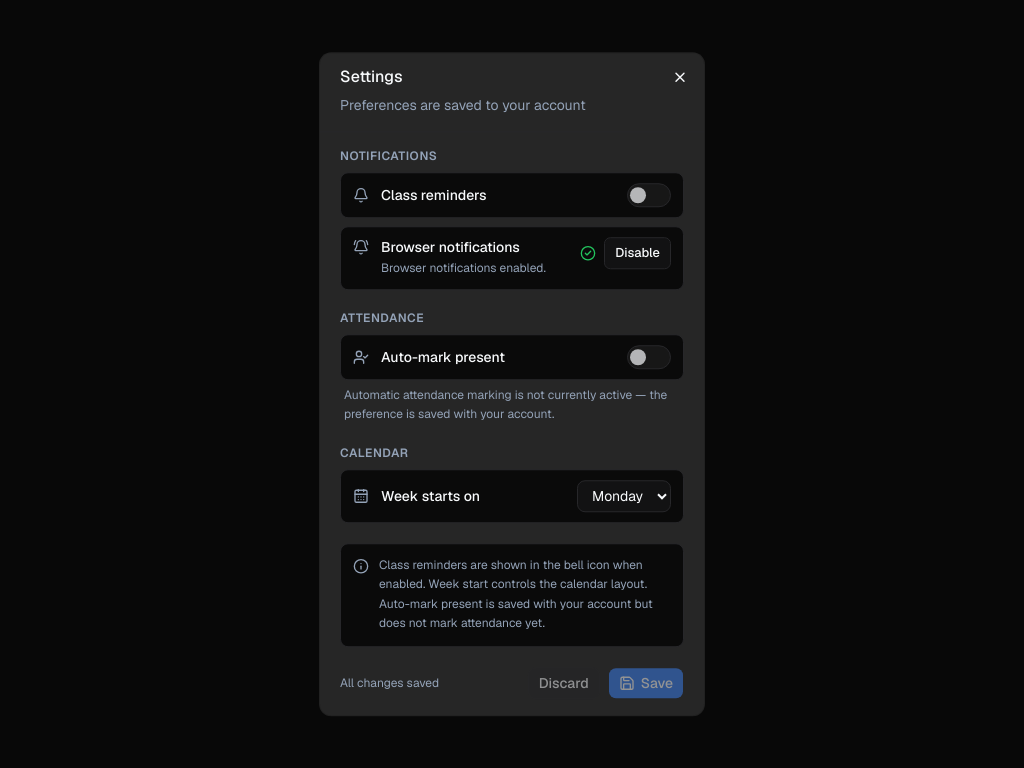
Test: SettingsModal dirty state (UIA-002) › saves the draft when dirty, then returns to the clean state
Click the switch named "class reminders" at (649, 195), box [627,183,671,207]
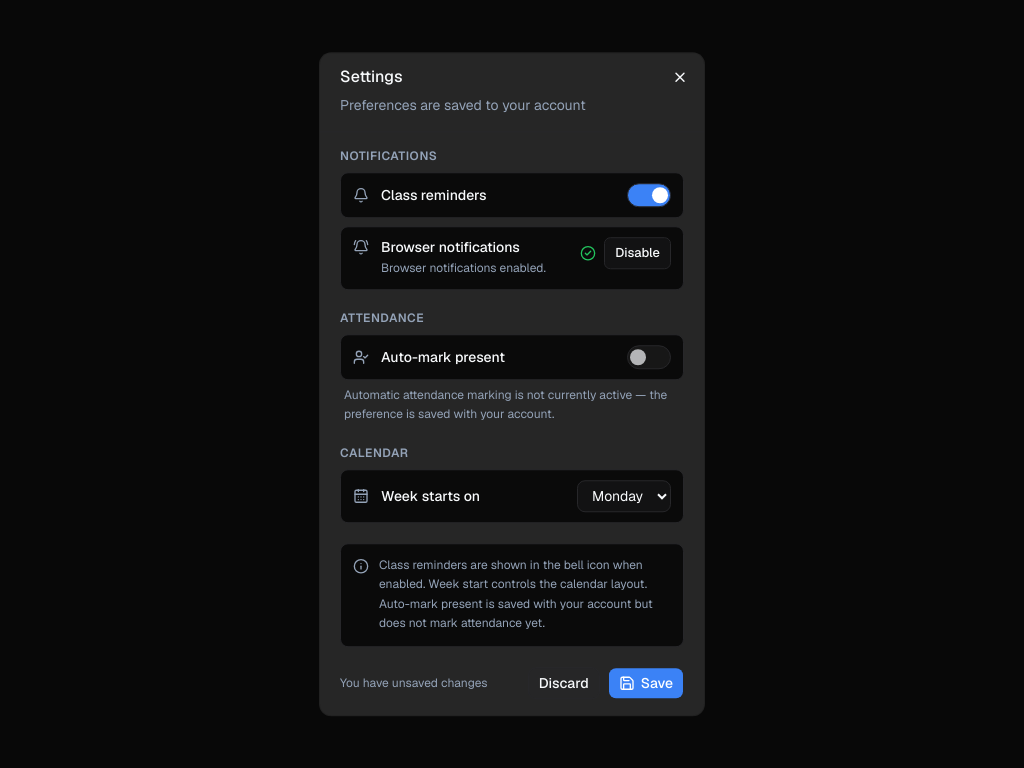
Click the button "Save" at (646, 683), box [608,667,684,699]
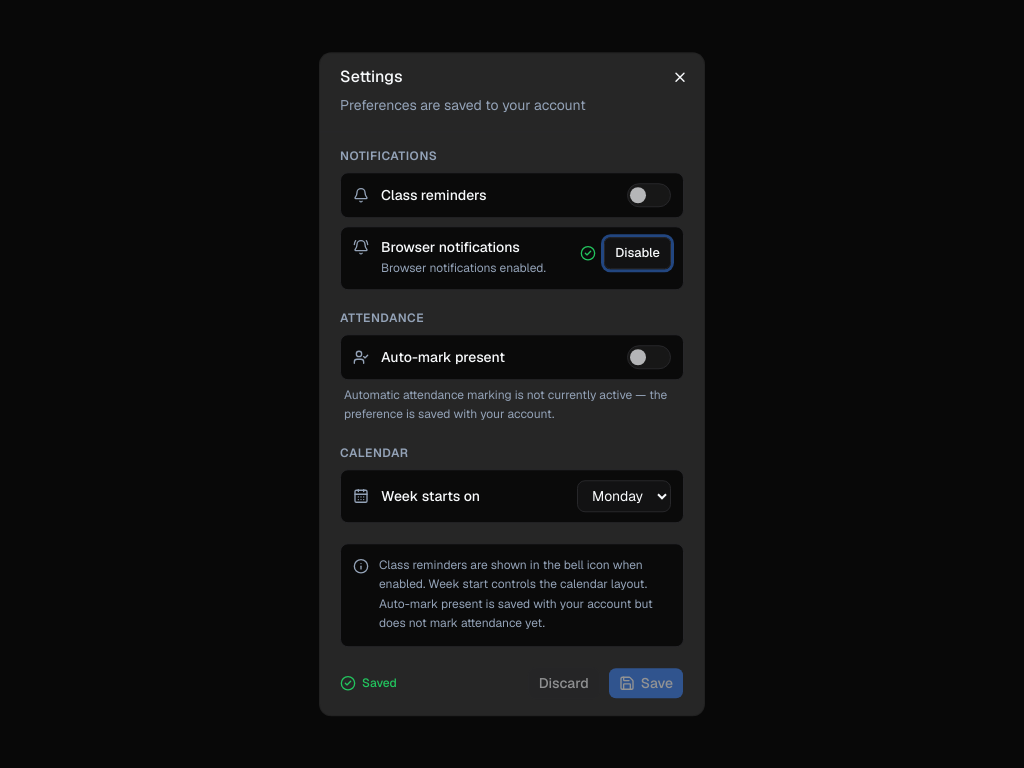
Expected: the text "Saved" is shown, [340,675,397,691]
Expected: the button "Save" is disabled, [608,667,684,699]
Expected: the text "You have unsaved changes" is gone
